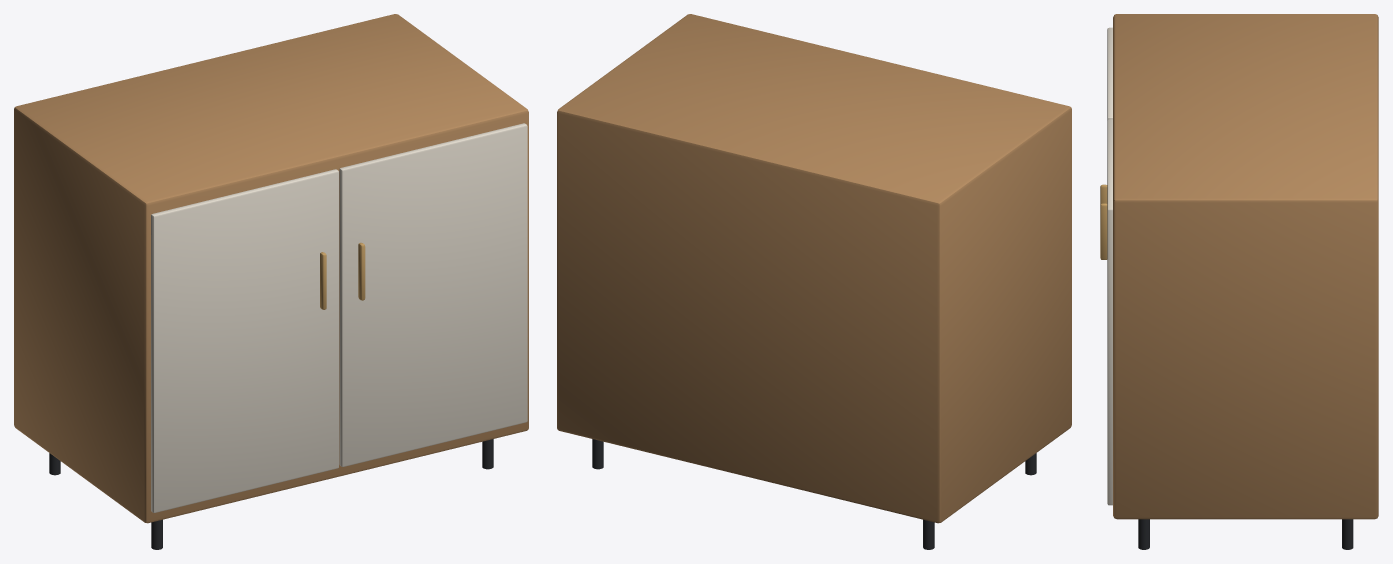
The model's file is cabinet_2.glb.
The picture shows the model from 3 angles, left to right: view 1: azimuth 30°, elevation 25°; view 2: azimuth 150°, elevation 25°; view 3: azimuth 270°, elevation 25°; orthographic projection.
Visible parts, largest first — view 1: box, box.003, box.001; view 2: box; view 3: box, box.003, box.001, box.004, leg.002, leg.003.
Boxes of the visible parts, x1=… form: box: x1=14, y1=14, x2=528, y2=523; box.003: x1=339, y1=123, x2=527, y2=466; box.001: x1=151, y1=169, x2=338, y2=512; box: x1=557, y1=14, x2=1071, y2=523; box: x1=1113, y1=14, x2=1378, y2=519; box.003: x1=1107, y1=119, x2=1112, y2=505; box.001: x1=1107, y1=27, x2=1112, y2=120; box.004: x1=1100, y1=203, x2=1107, y2=259; leg.002: x1=1138, y1=519, x2=1149, y2=549; leg.003: x1=1342, y1=519, x2=1353, y2=549.
Bounding box in the file's own units: 100 × 90 × 62.9.
